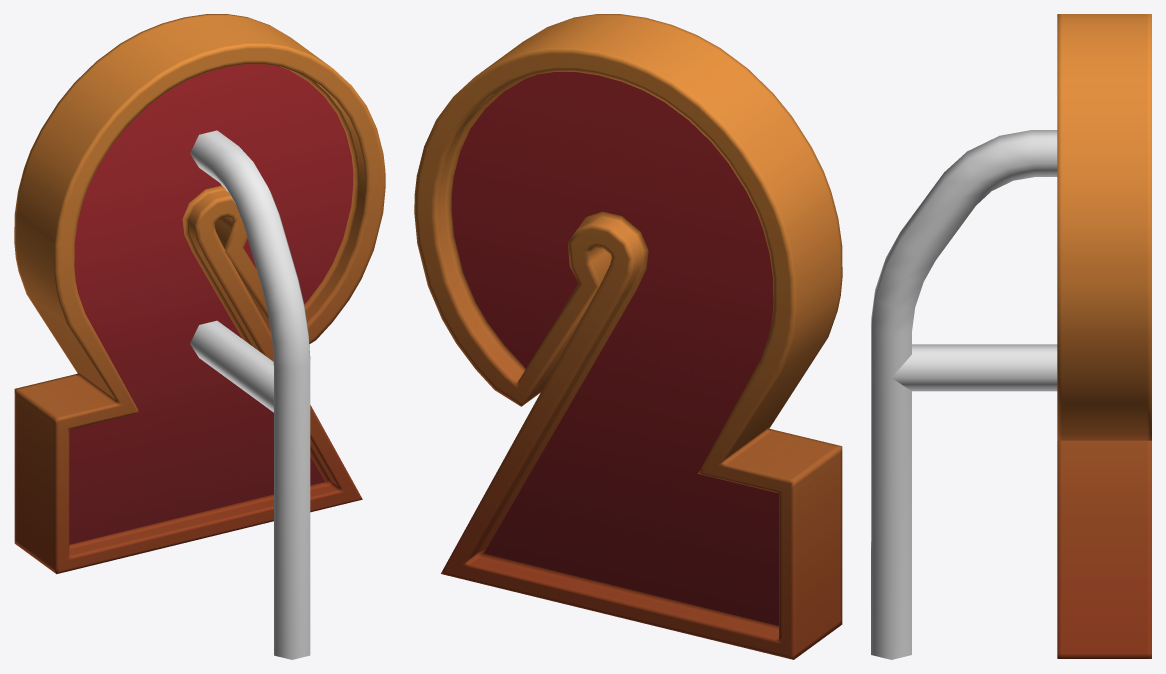
The model's file is SM_order_no_2.fbx.
The picture shows the model from 3 angles, left to right: view 1: azimuth 30°, elevation 25°; view 2: azimuth 150°, elevation 25°; view 3: azimuth 270°, elevation 25°; orthographic projection. The views are drawn at different scales.
Parts seen in each view (by area): view 1: SM_order_no_2, Plane.006; view 2: SM_order_no_2; view 3: SM_order_no_2, Plane.006.
Part boxes in pixels (left/top/right/bottom): SM_order_no_2: left=14, top=14, right=385, bottom=574; Plane.006: left=190, top=130, right=310, bottom=659; SM_order_no_2: left=414, top=14, right=842, bottom=659; SM_order_no_2: left=1057, top=14, right=1151, bottom=658; Plane.006: left=871, top=130, right=1057, bottom=659.
Size of the model in its own units: 90.62 by 144 by 59.33.
